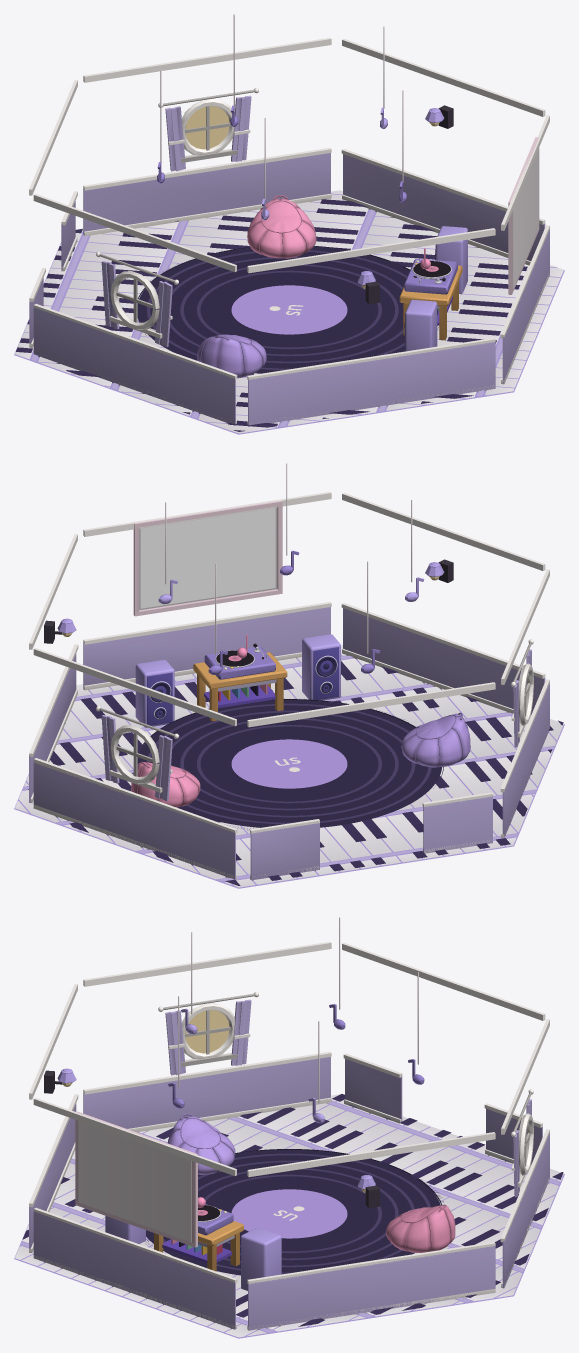
File: zon_room_song_lite.glb
3 views of the same model, one above another, from view 1: azimuth 30°, elevation 25°; view 2: azimuth 150°, elevation 25°; view 3: azimuth 270°, elevation 25° (orthographic).
Parts seen in each view (by area): view 1: SM_zon_room_song_lite_room_floor_plaster_x0_z0, SM_zon_room_song_lite_room_floor_glaze_x0_z0, SM_zon_room_song_lite_room_rug_fabric_x0_z0, SM_zon_room_song_lite_room_floor_gloss_x0_z0, SM_zon_room_song_lite_room_floor_fabric_x0_z0, ANIM_fur_speaker_song_lite_box__1, SM_zon_room_song_lite_glow_vc_x0_z0, SM_zon_room_song_lite_room_floor_wood_x0_z0, ANIM_fur_speaker_song_lite_box__0; view 2: SM_zon_room_song_lite_room_floor_plaster_x0_z0, SM_zon_room_song_lite_room_rug_fabric_x0_z0, SM_zon_room_song_lite_room_floor_glaze_x0_z0, SCREEN_fur_screen_song__0, SM_zon_room_song_lite_room_floor_gloss_x0_z0, SM_zon_room_song_lite_room_floor_fabric_x0_z0, ANIM_fur_speaker_song_lite_box__1, ANIM_fur_speaker_song_lite_box__0, SM_zon_room_song_lite_room_floor_wood_x0_z0; view 3: SM_zon_room_song_lite_room_floor_plaster_x0_z0, SM_zon_room_song_lite_room_floor_glaze_x0_z0, SM_zon_room_song_lite_room_rug_fabric_x0_z0, SM_zon_room_song_lite_room_floor_fabric_x0_z0, SM_zon_room_song_lite_room_floor_gloss_x0_z0, ANIM_fur_speaker_song_lite_box__0, SM_zon_room_song_lite_room_floor_wood_x0_z0, SM_zon_room_song_lite_glow_vc_x0_z0, ANIM_fur_speaker_song_lite_box__1.
Boxes of the visible parts, x1,y1,x2,y2 form: SM_zon_room_song_lite_room_floor_plaster_x0_z0: (29, 14, 549, 426); SM_zon_room_song_lite_room_floor_glaze_x0_z0: (14, 190, 564, 434); SM_zon_room_song_lite_room_rug_fabric_x0_z0: (137, 246, 438, 373); SM_zon_room_song_lite_room_floor_gloss_x0_z0: (16, 199, 527, 431); SM_zon_room_song_lite_room_floor_fabric_x0_z0: (197, 195, 316, 378); ANIM_fur_speaker_song_lite_box__1: (404, 299, 437, 351); SM_zon_room_song_lite_glow_vc_x0_z0: (185, 106, 439, 288); SM_zon_room_song_lite_room_floor_wood_x0_z0: (399, 265, 462, 340); ANIM_fur_speaker_song_lite_box__0: (435, 226, 467, 294); SM_zon_room_song_lite_room_floor_plaster_x0_z0: (29, 463, 549, 880); SM_zon_room_song_lite_room_rug_fabric_x0_z0: (137, 698, 443, 830); SM_zon_room_song_lite_room_floor_glaze_x0_z0: (14, 644, 564, 888); SCREEN_fur_screen_song__0: (140, 508, 275, 608); SM_zon_room_song_lite_room_floor_gloss_x0_z0: (28, 643, 563, 885); SM_zon_room_song_lite_room_floor_fabric_x0_z0: (131, 712, 470, 807); ANIM_fur_speaker_song_lite_box__1: (302, 634, 340, 700); ANIM_fur_speaker_song_lite_box__0: (135, 659, 174, 727); SM_zon_room_song_lite_room_floor_wood_x0_z0: (193, 652, 287, 721); SM_zon_room_song_lite_room_floor_plaster_x0_z0: (29, 917, 549, 1330); SM_zon_room_song_lite_room_floor_glaze_x0_z0: (14, 1094, 564, 1338); SM_zon_room_song_lite_room_rug_fabric_x0_z0: (143, 1149, 444, 1275); SM_zon_room_song_lite_room_floor_fabric_x0_z0: (167, 1113, 455, 1252); SM_zon_room_song_lite_room_floor_gloss_x0_z0: (22, 1094, 563, 1326); ANIM_fur_speaker_song_lite_box__0: (241, 1227, 281, 1290); SM_zon_room_song_lite_room_floor_wood_x0_z0: (154, 1221, 243, 1271); SM_zon_room_song_lite_glow_vc_x0_z0: (62, 1010, 365, 1192); ANIM_fur_speaker_song_lite_box__1: (105, 1216, 145, 1243).
Bounding box in the file's own units: 10.44 × 4.99 × 9.96.
